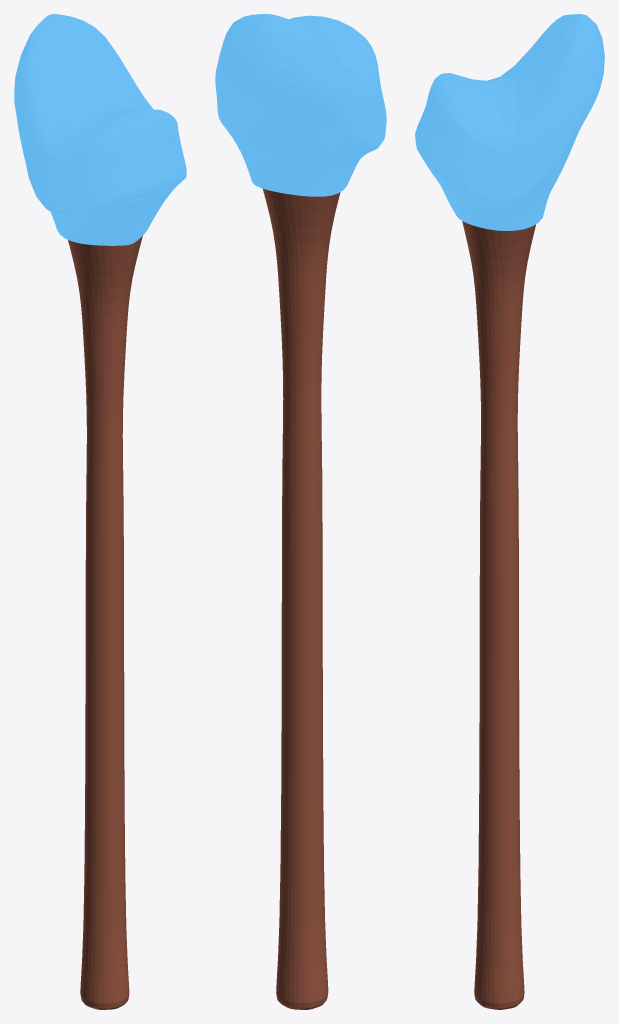
File: wand1.fbx
3 renders of one model, left to right at view 1: azimuth 30°, elevation 25°; view 2: azimuth 150°, elevation 25°; view 3: azimuth 270°, elevation 25°, orthographic. The views are drawn at different scales.
Parts seen in each view (by area): view 1: Object_1, Layer 01; view 2: Object_1, Layer 01; view 3: Object_1, Layer 01.
Boxes of the visible parts, bbox=[...] form: Object_1: bbox=[68, 236, 142, 1009]; Layer 01: bbox=[14, 14, 186, 245]; Object_1: bbox=[263, 189, 340, 1009]; Layer 01: bbox=[215, 14, 386, 196]; Object_1: bbox=[462, 221, 535, 1009]; Layer 01: bbox=[415, 14, 604, 230].
Bounding box in the file's own units: 501 × 597 × 3397.
